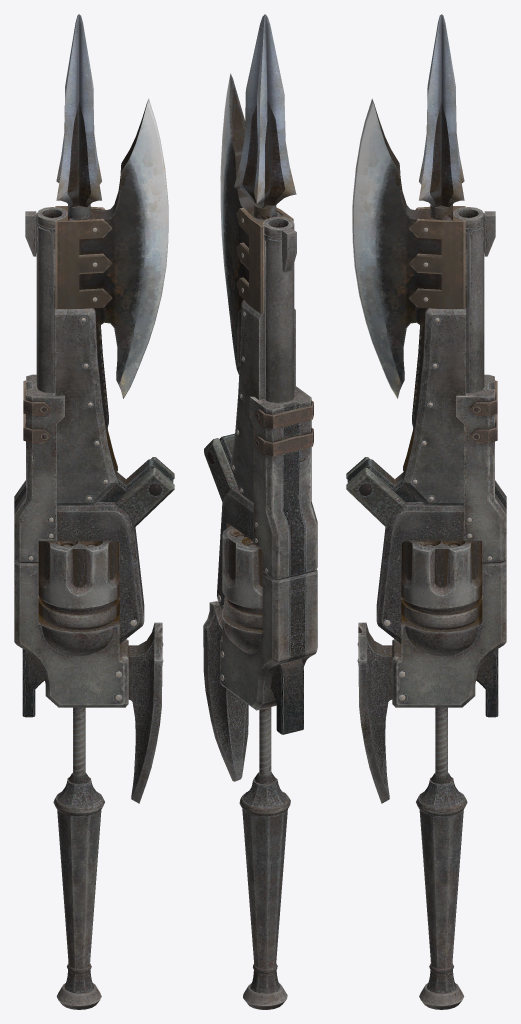
File: bs_gun010.obj
3 renders of one model, left to right at view 1: azimuth 90°, elevation 25°; view 2: azimuth 210°, elevation 25°; view 3: azimuth 270°, elevation 25°, orthographic.
Visible parts, largest first — view 1: bs_gun010_000_LOD_1, bs_gun010_003_LOD_1, bs_gun010_001_LOD_1, bs_gun010_002_LOD_1; view 2: bs_gun010_000_LOD_1, bs_gun010_003_LOD_1, bs_gun010_001_LOD_1, bs_gun010_002_LOD_1; view 3: bs_gun010_000_LOD_1, bs_gun010_003_LOD_1, bs_gun010_001_LOD_1, bs_gun010_002_LOD_1.
Boxes of the visible parts, bbox=[...] form: bs_gun010_000_LOD_1: bbox=[14, 374, 174, 1009]; bs_gun010_003_LOD_1: bbox=[55, 14, 168, 431]; bs_gun010_001_LOD_1: bbox=[25, 207, 173, 505]; bs_gun010_002_LOD_1: bbox=[36, 226, 51, 392]; bs_gun010_000_LOD_1: bbox=[203, 386, 317, 1009]; bs_gun010_003_LOD_1: bbox=[220, 14, 296, 374]; bs_gun010_001_LOD_1: bbox=[219, 216, 296, 504]; bs_gun010_002_LOD_1: bbox=[266, 238, 294, 402]; bs_gun010_000_LOD_1: bbox=[346, 374, 506, 1009]; bs_gun010_003_LOD_1: bbox=[352, 14, 465, 431]; bs_gun010_001_LOD_1: bbox=[347, 207, 495, 505]; bs_gun010_002_LOD_1: bbox=[469, 226, 484, 392].
Bounding box in the file's own units: 26.66 × 333 × 48.92.
